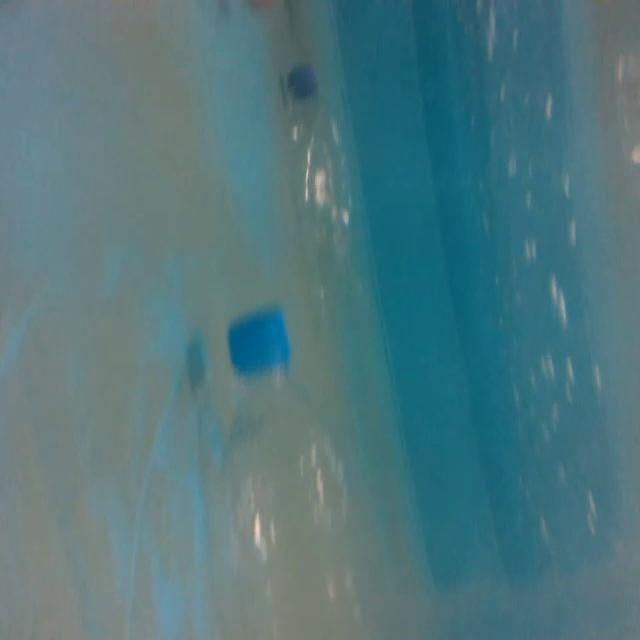plastic bottle: (215, 307, 363, 640), (277, 64, 393, 340)
